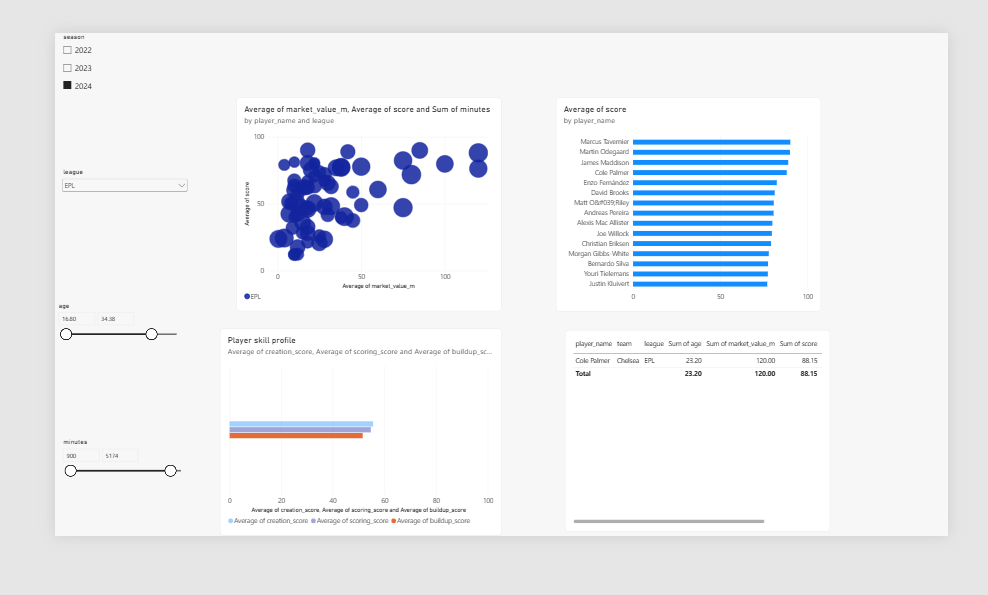

Layout of this report page (visuals, bound fields, positions):
{"tool":"powerbi","page":{"name":"Page 1","canvas":[1920,1080],"ordinal":0},"visuals":[{"type":"slicer","fields":{"Values":["dashboard_data.season"]},"box":[10,0,280,280],"z":0},{"type":"slicer","fields":{"Values":["dashboard_data.league"]},"box":[10,290,280,280],"z":1},{"type":"slicer","fields":{"Values":["dashboard_data.age"]},"box":[0,576,280,280],"z":2},{"type":"slicer","fields":{"Values":["dashboard_data.minutes"]},"box":[10,870,280,210],"z":3},{"type":"scatterChart","title":"Score vs Market Value (€M)","fields":{"Category":["dashboard_data.player_name","dashboard_data.season"],"Series":["dashboard_data.league"],"Size":["Avg(dashboard_data.minutes)"],"X":["Avg(dashboard_data.market_value_m)"],"Y":["Avg(dashboard_data.score)"]},"box":[389.8,139.6,570.2,459.6],"z":4},{"type":"barChart","title":"Top 15 by score","fields":{"Category":["dashboard_data.player_name"],"Y":["Avg(dashboard_data.score)"]},"box":[1076.4,139.6,570,460],"z":5},{"type":"clusteredBarChart","title":"Player skill profile","fields":{"Y":["Avg(dashboard_data.creation_score)","Avg(dashboard_data.scoring_score)","Avg(dashboard_data.buildup_score)"]},"box":[354.9,634.2,605.1,445.1],"z":6},{"type":"tableEx","fields":{"Values":["dashboard_data.player_name","dashboard_data.team","dashboard_data.league","Sum(dashboard_data.age)","Sum(dashboard_data.market_value_m)","Sum(dashboard_data.score)","Sum(dashboard_data.score_per_million)"]},"box":[1096.7,640,570.2,433.5],"z":7}]}

Visuals, with their boxes on the page's 1920x1080 design canvas (x1, y1, x2, y2). These are canvas units, not pixel positions in the 988x595 screenshot, which may show the page scaled, cropped or inside an application window:
slicer - dashboard_data.season: 10, 0, 290, 280
slicer - dashboard_data.league: 10, 290, 290, 570
slicer - dashboard_data.age: 0, 576, 280, 856
slicer - dashboard_data.minutes: 10, 870, 290, 1080
"Score vs Market Value (€M)" scatterChart: 390, 140, 960, 599
"Top 15 by score" barChart: 1076, 140, 1646, 600
"Player skill profile" clusteredBarChart: 355, 634, 960, 1079
tableEx - dashboard_data.player_name x dashboard_data.team: 1097, 640, 1667, 1074
